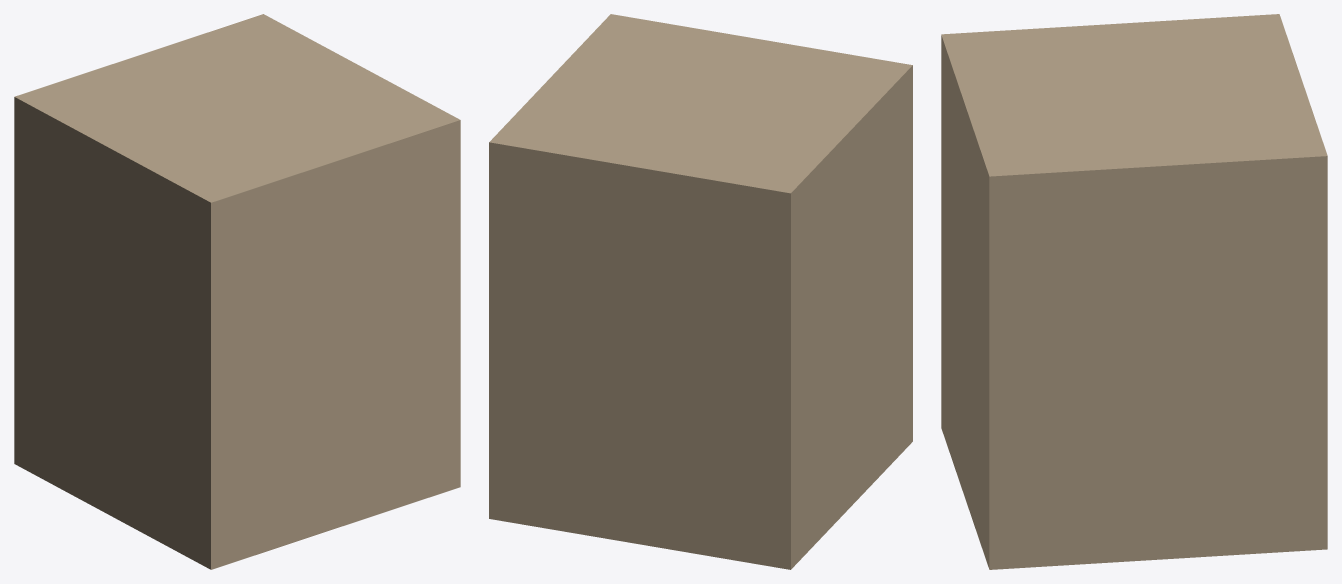
Rendered from bld_107638975.dae.
The picture shows the model from 3 angles, left to right: view 1: azimuth 30°, elevation 25°; view 2: azimuth 150°, elevation 25°; view 3: azimuth 270°, elevation 25°; orthographic projection. The views are drawn at different scales.
Visible parts, largest first — view 1: bld_107638975; view 2: bld_107638975; view 3: bld_107638975.
Part boxes in pixels (x1,y1,x2,y2): bld_107638975: (14, 14, 460, 569); bld_107638975: (489, 14, 912, 569); bld_107638975: (941, 14, 1327, 569).
Bounding box in the file's own units: 7.09 × 7.12 × 8.
